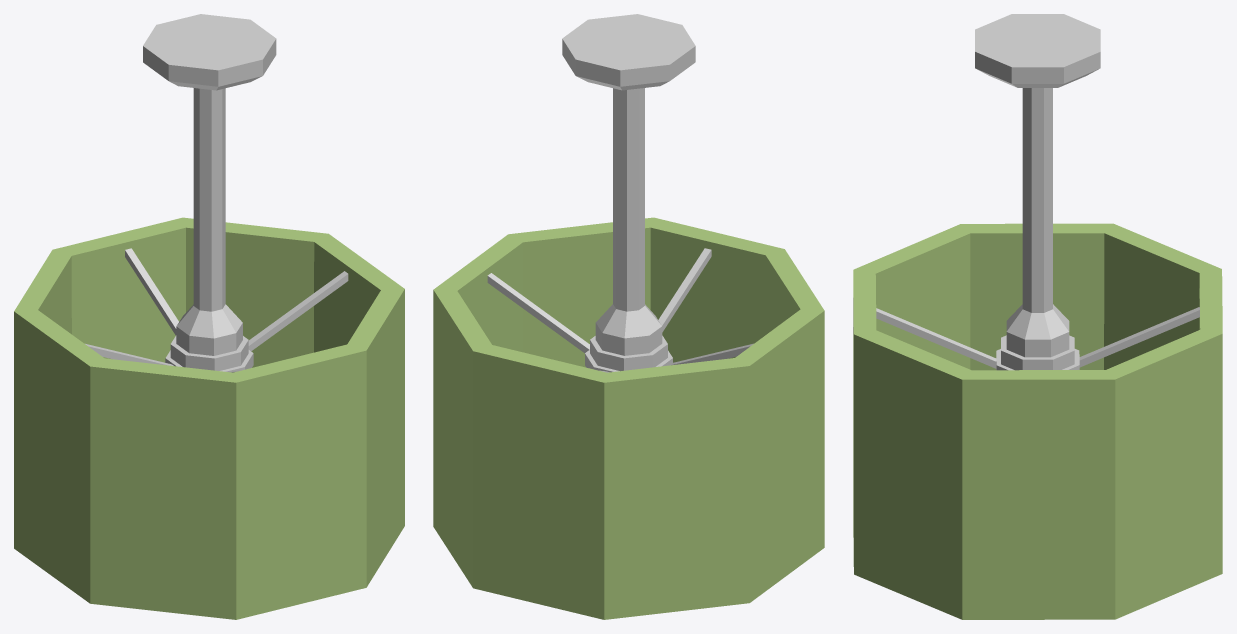
File: Ceiling_Light.fbx
3 renders of one model, left to right at view 1: azimuth 30°, elevation 25°; view 2: azimuth 150°, elevation 25°; view 3: azimuth 270°, elevation 25°, orthographic.
Visible parts, largest first — view 1: Ceiling_Light; view 2: Ceiling_Light; view 3: Ceiling_Light.
Part boxes in pixels (left/top/right/bottom): Ceiling_Light: left=14, top=14, right=404, bottom=619; Ceiling_Light: left=433, top=14, right=824, bottom=619; Ceiling_Light: left=853, top=14, right=1222, bottom=619.
Bounding box in the file's own units: 0.9103 × 1.36 × 0.9103.
